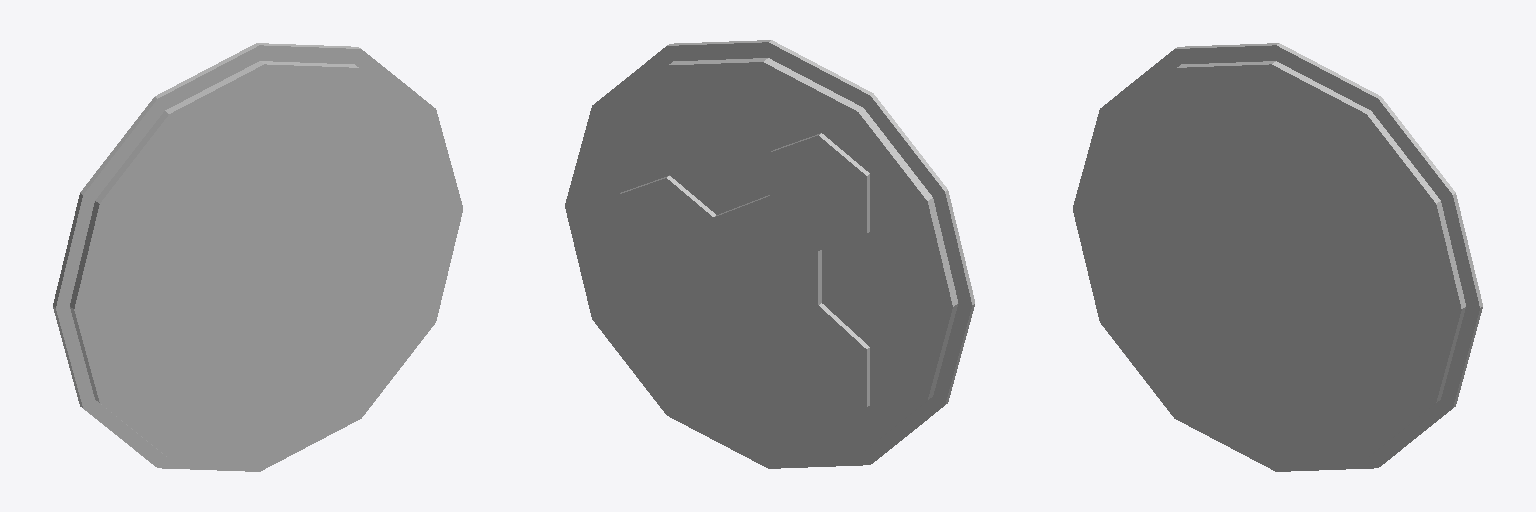
The model's file is ZEN.obj.
3 views of the same model, side by side, from view 1: azimuth 30°, elevation 25°; view 2: azimuth 150°, elevation 25°; view 3: azimuth 330°, elevation 25° (orthographic).
Parts seen in each view (by area): view 1: group[number redacted], group[number redacted]; view 2: group[number redacted], group[number redacted], group[number redacted], group[number redacted], group[number redacted], group[number redacted], group[number redacted], group[number redacted], group[number redacted], group[number redacted], group[number redacted]; view 3: group[number redacted], group[number redacted].
Part boxes in pixels (x1,y1,x2,y2): group[number redacted]: (70,61,453,461); group[number redacted]: (53,43,462,471); group[number redacted]: (573,58,958,459); group[number redacted]: (565,40,974,468); group[number redacted]: (666,195,769,293); group[number redacted]: (717,261,869,366); group[number redacted]: (770,153,821,307); group[number redacted]: (770,133,869,192); group[number redacted]: (619,175,715,235); group[number redacted]: (818,348,869,424); group[number redacted]: (818,174,869,250); group[number redacted]: (618,195,665,292); group[number redacted]: (770,325,817,423); group[number redacted]: (1082,61,1465,461); group[number redacted]: (1073,43,1482,471).
Bounding box in the file's own units: 0.59 × 0.59 × 0.0416.